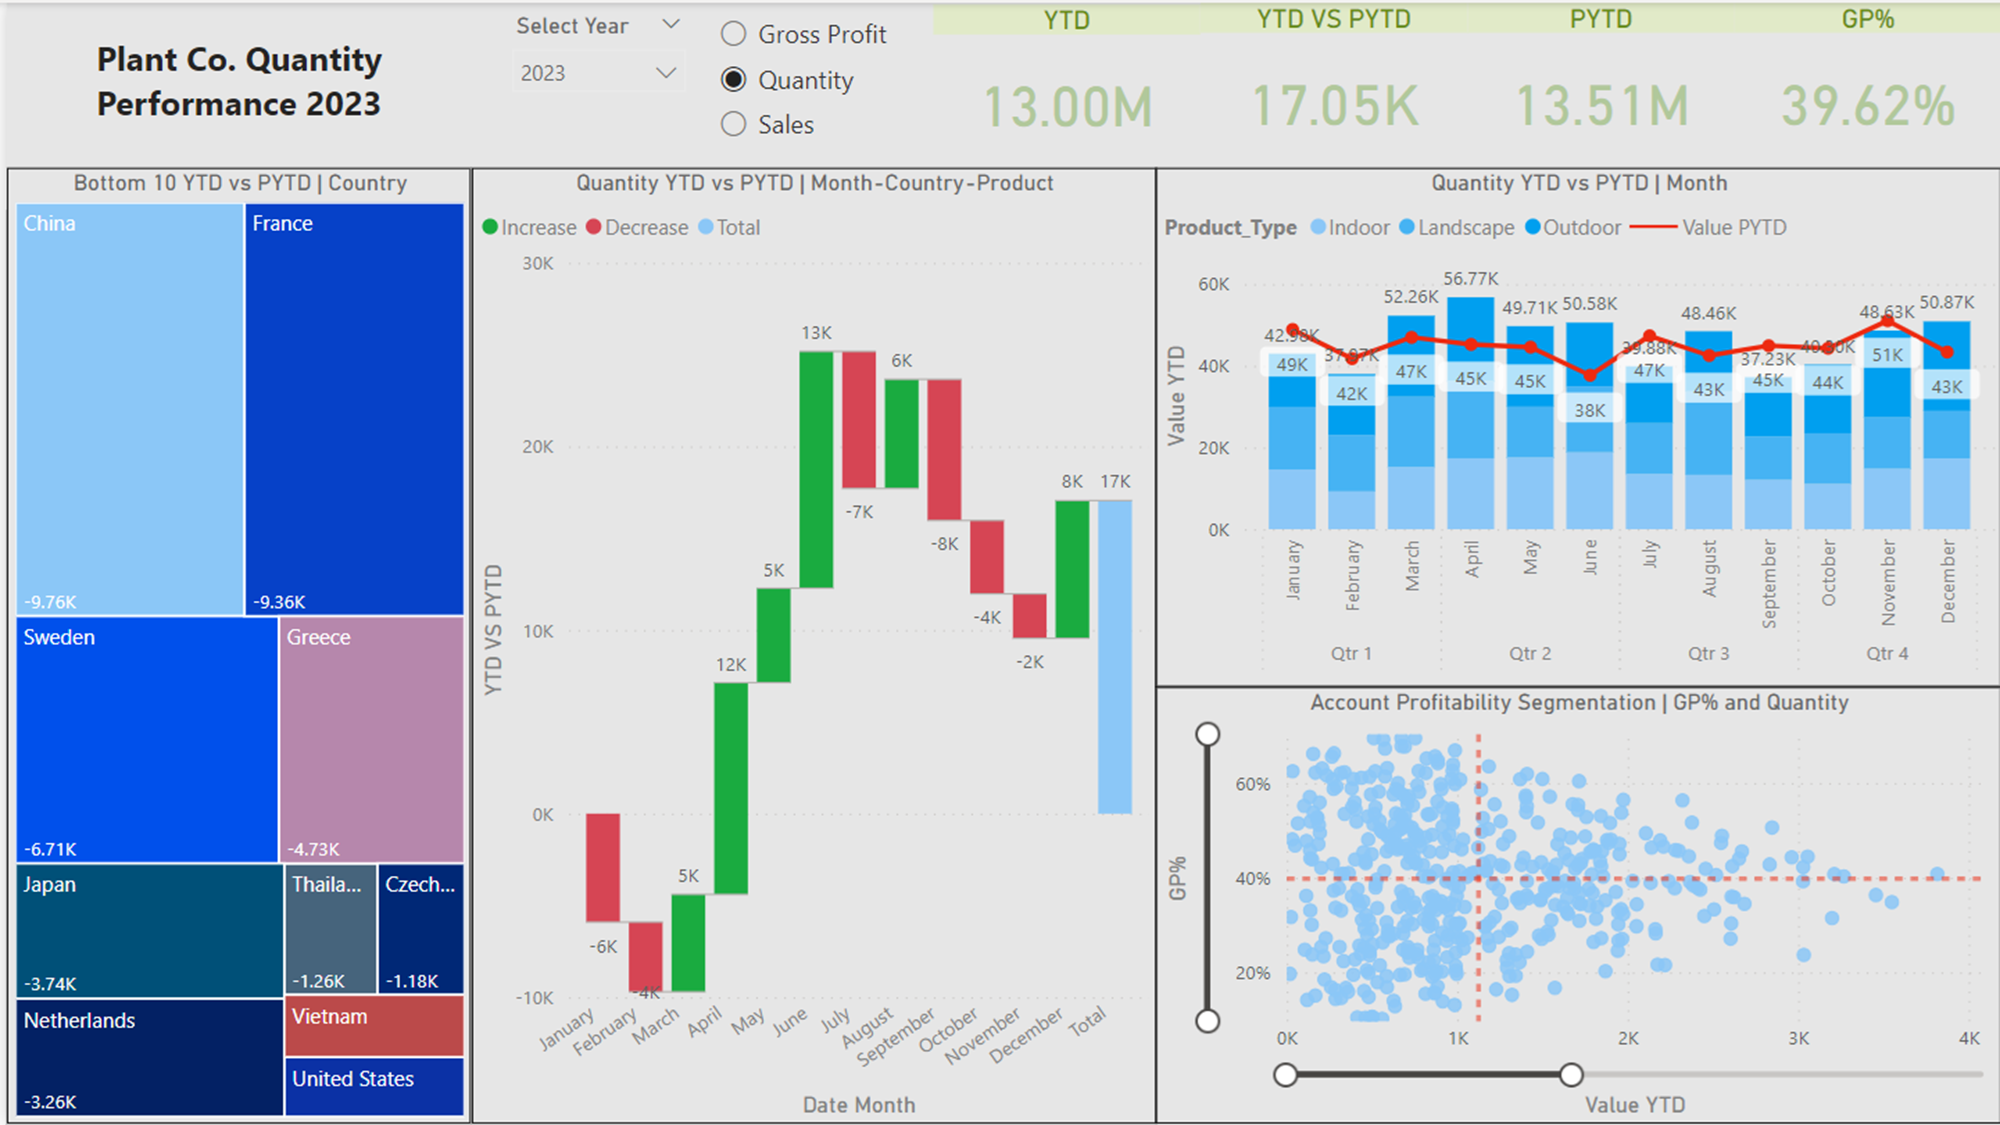

Layout of this report page (visuals, bound fields, positions):
{"tool":"powerbi","page":{"name":"Plant Co. Performance Report","canvas":[1280,720],"ordinal":0},"visuals":[{"type":"card","title":"YTD","fields":{"Values":["_Measures.YTD_Sales"]},"box":[594.6,1.2,171.3,104.9],"z":0},{"type":"card","title":"PYTD","fields":{"Values":["_Measures.PYTD_Sales"]},"box":[937.1,0,171.3,106.1],"z":1000},{"type":"card","title":"YTD VS PYTD","fields":{"Values":["_Measures.YTD VS PYTD"]},"box":[765.8,0,171.3,106.1],"z":2000},{"type":"slicer","fields":{"Values":["Slc_Values.Values"]},"box":[445,0,149.5,106.1],"z":4000},{"type":"slicer","fields":{"Values":["Dim_Date.Date.Variation.Date Hierarchy.Year"]},"box":[313.6,1.2,131.5,74.8],"z":5000},{"type":"treemap","title":"Bottom 10 YTD vs PYTD | Country","fields":{"Group":["Dim_Account.country"],"Values":["_Measures.YTD VS PYTD"]},"box":[0,106.1,297.9,612.7],"z":6000},{"type":"waterfallChart","fields":{"Y":["_Measures.YTD VS PYTD"],"Category":["Dim_Date.Date.Variation.Date Hierarchy.Month","Dim_Account.country","Dim_Product.Product_Type","Dim_Product.Product_Name"]},"box":[297.9,106.1,439,612.7],"z":7000},{"type":"lineStackedColumnComboChart","fields":{"Y":["_Measures.S_YTD"],"Category":["Dim_Date.Date.Variation.Date Hierarchy.Quarter","Dim_Date.Date.Variation.Date Hierarchy.Month"],"Y2":["_Measures.S_PYTD"],"Series":["Dim_Product.Product_Type"]},"box":[736.9,106.1,542.7,332.9],"z":8000},{"type":"card","title":"GP%","fields":{"Values":["_Measures.GP%"]},"box":[1108.3,0,171.3,106.1],"z":8001},{"type":"scatterChart","fields":{"Y":["_Measures.GP%"],"X":["_Measures.S_YTD"],"Category":["Dim_Account.Account"]},"box":[736.9,439,542.7,279.8],"z":8002},{"type":"clusteredColumnChart","box":[0,20.5,297.9,66.3],"z":8003}]}

Visuals, with their boxes in screenshot pixels (x1, y1, x2, y2), scaled from the page's 1280x720 canvas onto the 2000x1125 screenshot:
"YTD" card: rect(929, 2, 1197, 166)
"PYTD" card: rect(1464, 0, 1732, 166)
"YTD VS PYTD" card: rect(1197, 0, 1464, 166)
slicer - Slc_Values.Values: rect(695, 0, 929, 166)
slicer - Dim_Date.Date.Variation.Date Hierarchy.Year: rect(490, 2, 695, 119)
"Bottom 10 YTD vs PYTD | Country" treemap: rect(0, 166, 465, 1123)
waterfallChart - _Measures.YTD VS PYTD x Dim_Date.Date.Variation.Date Hierarchy.Month: rect(465, 166, 1151, 1123)
lineStackedColumnComboChart - _Measures.S_YTD x Dim_Date.Date.Variation.Date Hierarchy.Quarter: rect(1151, 166, 1999, 686)
"GP%" card: rect(1732, 0, 1999, 166)
scatterChart - _Measures.GP% x _Measures.S_YTD: rect(1151, 686, 1999, 1123)
clusteredColumnChart: rect(0, 32, 465, 136)
